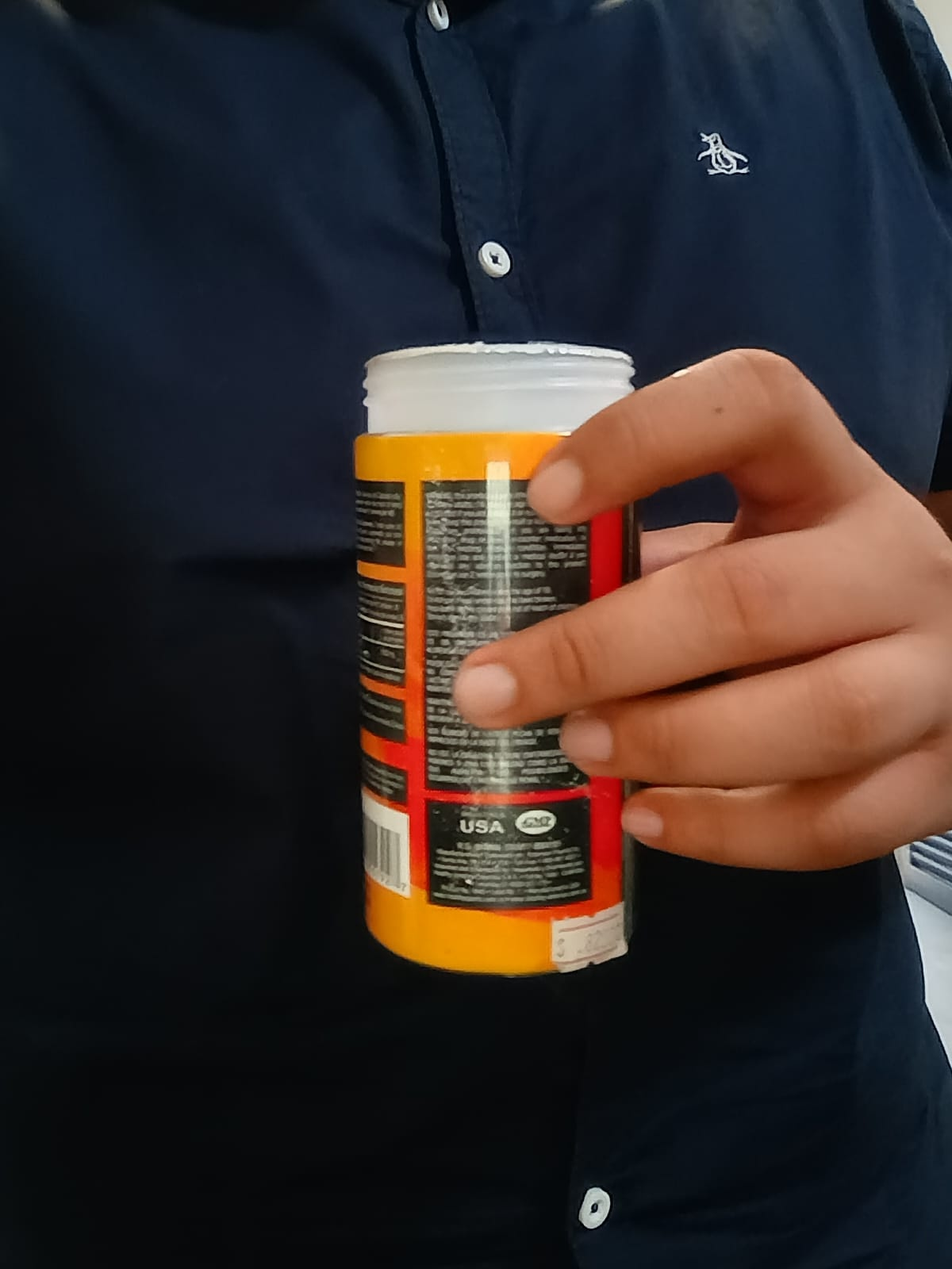Plastico: (356, 338, 641, 977)
